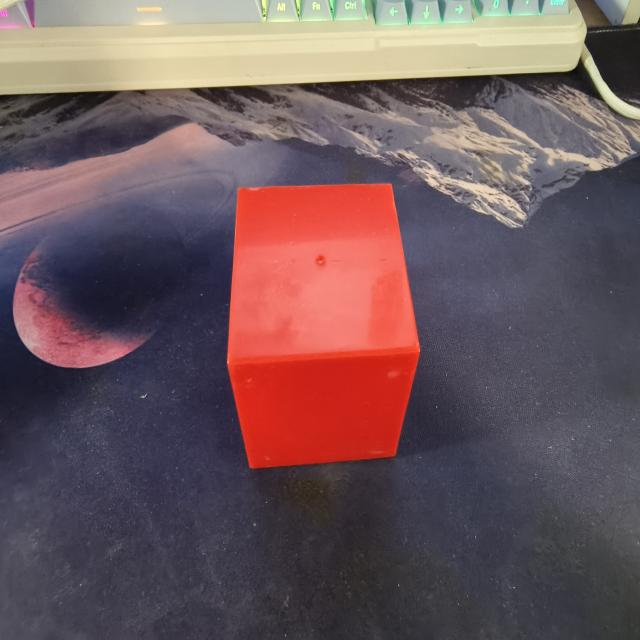red: (219, 172, 434, 472)
